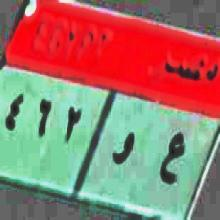2: (61, 90, 85, 157)
4: (4, 89, 24, 143)
6: (34, 90, 52, 148)
ain: (151, 123, 184, 200)
waw: (115, 115, 136, 184)
